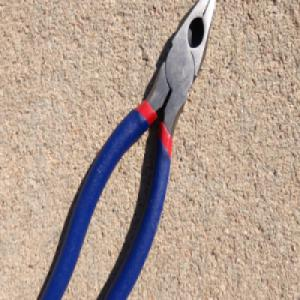Pliers: (38, 0, 216, 300)
